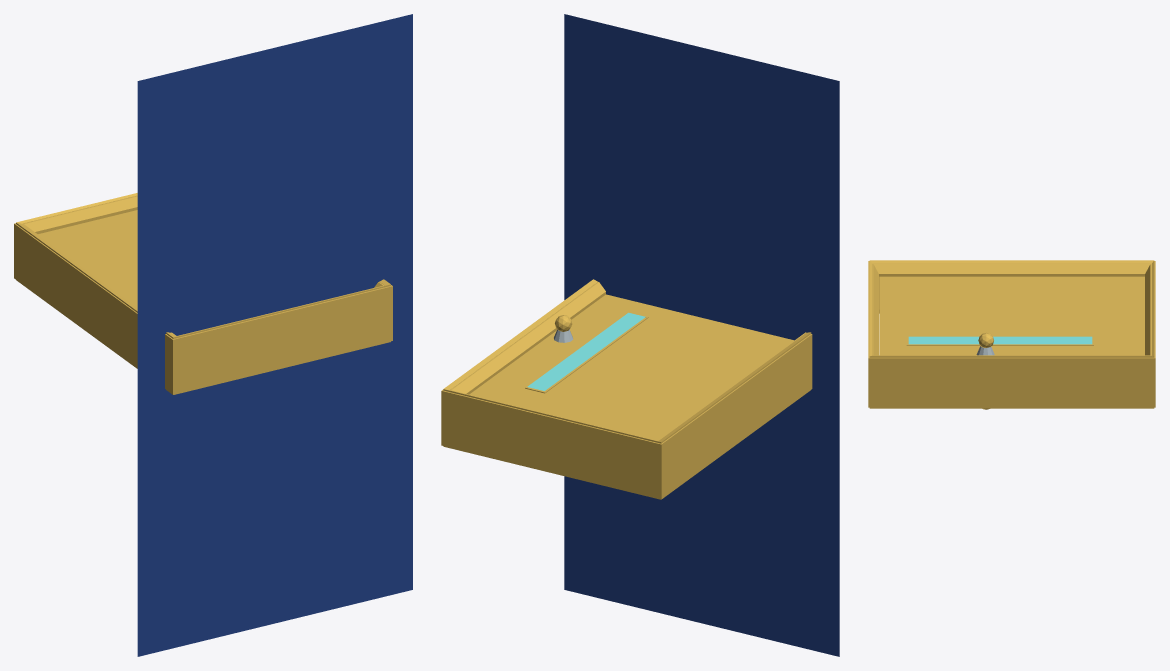
Rendered from RealRoomDoor_UtilityRoom.fbx.
3 renders of one model, left to right at view 1: azimuth 30°, elevation 25°; view 2: azimuth 150°, elevation 25°; view 3: azimuth 270°, elevation 25°, orthographic. The views are drawn at different scales.
Visible parts, largest first — view 1: Plane.298, menkuang.004, door.004; view 2: Plane.298, menkuang.004, door.004; view 3: menkuang.004, door.004.
Part boxes in pixels (x1=…): Plane.298: x1=137, y1=14, x2=412, y2=656; menkuang.004: x1=14, y1=193, x2=392, y2=394; door.004: x1=38, y1=210, x2=137, y2=306; Plane.298: x1=564, y1=14, x2=839, y2=656; menkuang.004: x1=441, y1=279, x2=812, y2=499; door.004: x1=469, y1=294, x2=794, y2=440; menkuang.004: x1=868, y1=260, x2=1155, y2=408; door.004: x1=879, y1=276, x2=1144, y2=409.
Bounding box in the file's own units: 2 × 4 × 2.
